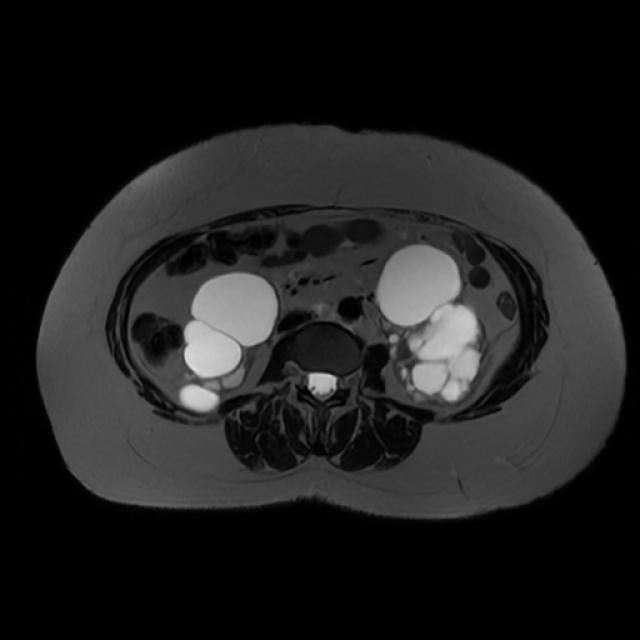sag: (181, 273, 278, 411)
sol: (378, 247, 483, 405)
